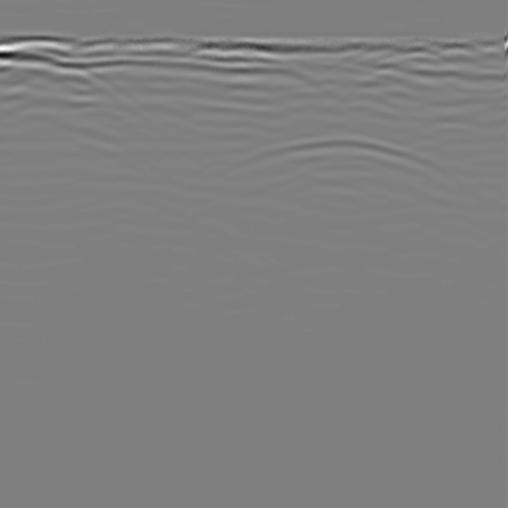hyperbola: (215, 124, 462, 221)
